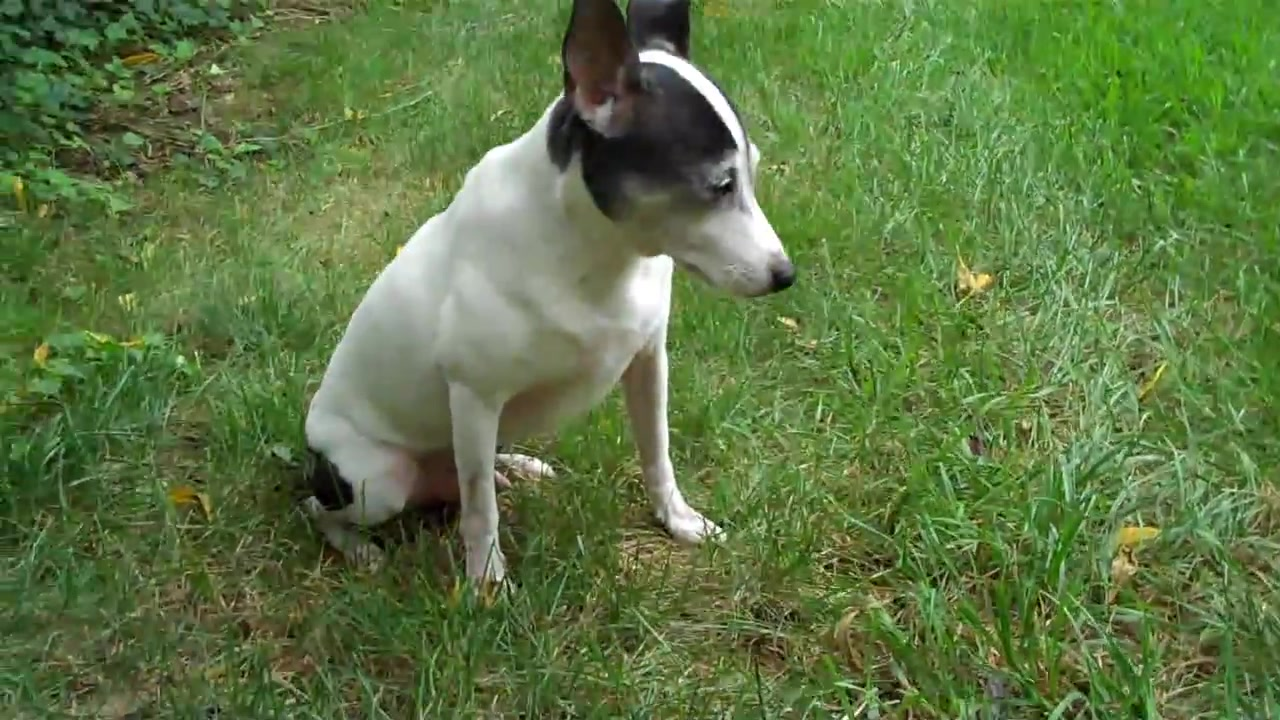dog: (302, 1, 801, 612)
